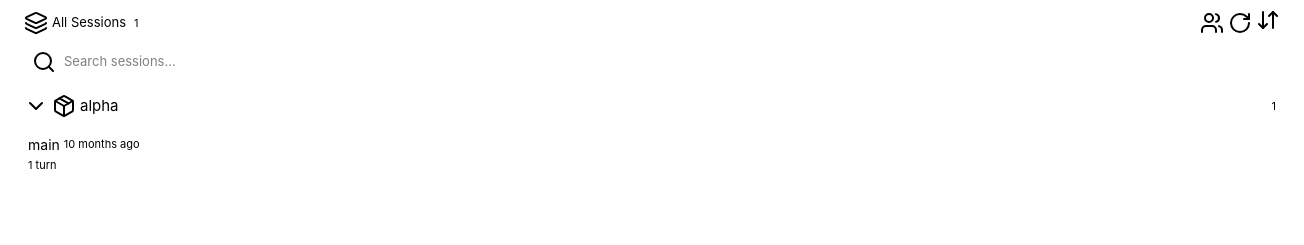
SessionsNavigation: showAgentSessions toggle › toggling it persists through prefsStore and reveals sidechain sessions
expect the text "sidechain one" is not shown: met
Click the button named "Show agent sessions" at (1212, 23), box [1200,11,1224,35]
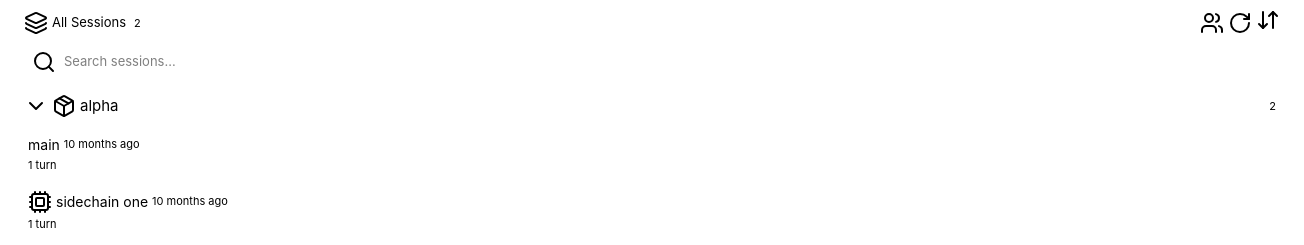
expect the text "sidechain one" is shown: met, box [56,191,148,212]
